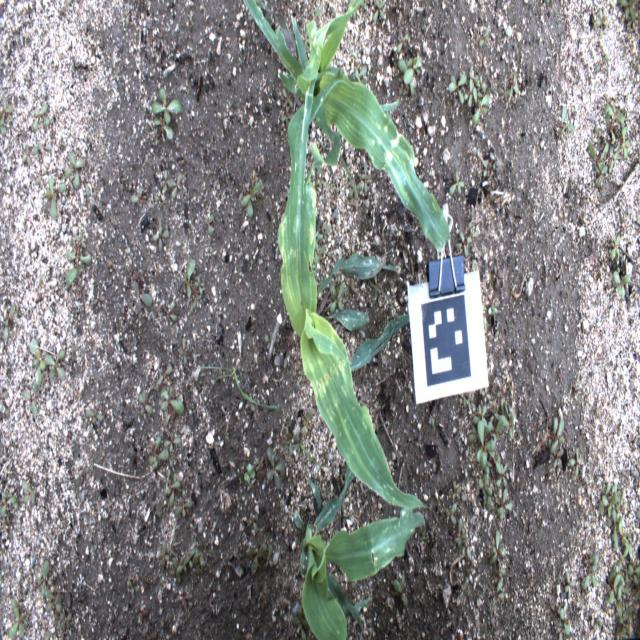crop: (276, 66, 429, 510), (243, 0, 451, 253), (293, 436, 426, 640)
weed: (194, 352, 279, 408), (151, 86, 182, 138), (29, 339, 49, 392), (65, 249, 92, 287), (45, 177, 68, 220), (476, 420, 495, 471), (398, 50, 424, 85), (294, 443, 328, 469), (266, 447, 286, 491), (241, 180, 263, 218), (64, 153, 86, 191), (44, 348, 68, 382), (159, 386, 185, 414), (599, 481, 618, 518), (580, 552, 598, 590), (8, 598, 25, 638), (603, 102, 624, 134), (548, 417, 566, 454), (472, 88, 489, 127), (180, 259, 196, 300), (588, 140, 602, 185), (499, 399, 514, 440), (489, 528, 506, 564), (247, 544, 267, 574), (617, 603, 635, 636), (150, 436, 168, 468), (132, 282, 152, 310), (35, 560, 49, 599), (449, 75, 467, 105), (0, 97, 14, 135), (610, 566, 624, 604), (497, 489, 514, 520), (612, 271, 630, 300), (2, 302, 16, 339), (392, 578, 408, 610), (491, 412, 506, 446), (619, 517, 633, 553), (328, 282, 344, 312), (150, 224, 169, 249), (449, 169, 465, 197), (595, 8, 609, 40), (32, 103, 49, 129), (455, 230, 472, 256), (568, 446, 582, 477), (597, 144, 610, 177), (138, 390, 153, 418), (168, 472, 180, 507), (454, 517, 468, 547), (558, 607, 572, 637), (0, 494, 19, 516), (618, 1, 636, 24), (478, 467, 492, 496), (23, 391, 38, 418), (560, 105, 574, 133), (21, 144, 38, 167), (158, 169, 175, 192), (472, 404, 488, 428), (157, 540, 170, 568), (443, 502, 458, 526), (351, 65, 368, 86), (46, 591, 62, 613), (22, 481, 36, 506), (349, 177, 363, 202), (164, 433, 183, 451), (282, 433, 297, 455), (494, 265, 507, 290), (564, 572, 576, 599), (620, 127, 630, 159), (613, 509, 621, 549), (468, 68, 480, 94), (613, 483, 625, 509), (86, 408, 105, 424), (175, 497, 191, 516), (361, 162, 371, 192), (610, 235, 621, 262), (191, 545, 205, 566), (170, 174, 182, 198), (628, 562, 640, 586), (610, 133, 620, 161), (169, 556, 180, 581), (496, 80, 509, 101), (488, 151, 502, 170), (161, 471, 172, 495), (373, 0, 385, 22), (396, 31, 408, 53), (496, 464, 507, 488), (59, 608, 72, 628), (490, 452, 501, 475), (618, 547, 629, 570), (340, 155, 350, 180), (130, 187, 145, 203), (318, 224, 330, 244), (595, 54, 608, 72), (495, 579, 506, 600), (0, 384, 8, 412), (203, 215, 213, 237), (179, 554, 191, 572), (509, 74, 519, 95), (478, 28, 489, 47), (266, 544, 274, 570), (553, 448, 563, 468), (452, 480, 462, 500), (467, 424, 477, 444), (244, 462, 255, 480), (468, 223, 479, 240), (74, 233, 86, 248), (247, 513, 257, 531), (128, 579, 140, 594), (487, 413, 496, 433), (477, 151, 487, 168), (464, 92, 474, 108), (478, 82, 487, 98), (482, 163, 491, 178), (498, 560, 506, 576), (492, 300, 501, 314), (37, 142, 52, 150), (492, 265, 498, 283)
